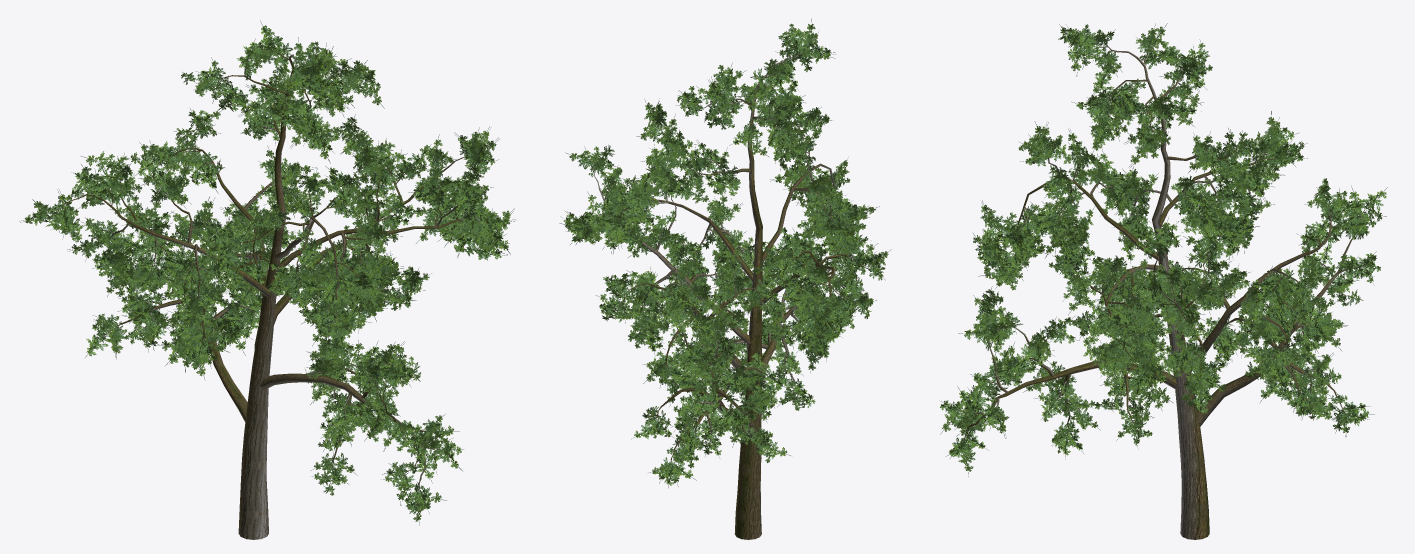
File: ash.glb
3 renders of one model, left to right at view 1: azimuth 30°, elevation 25°; view 2: azimuth 150°, elevation 25°; view 3: azimuth 270°, elevation 25°, orthographic. The views are drawn at different scales.
Visible parts, largest first — view 1: tree; view 2: tree; view 3: tree.
Part boxes in pixels (left/top/right/bottom): tree: left=19, top=20, right=515, bottom=539; tree: left=559, top=18, right=891, bottom=539; tree: left=940, top=23, right=1387, bottom=539.
Bounding box in the file's own units: 7.82 × 9.2 × 7.62.
Materials: 2 (2 with a texture image).
